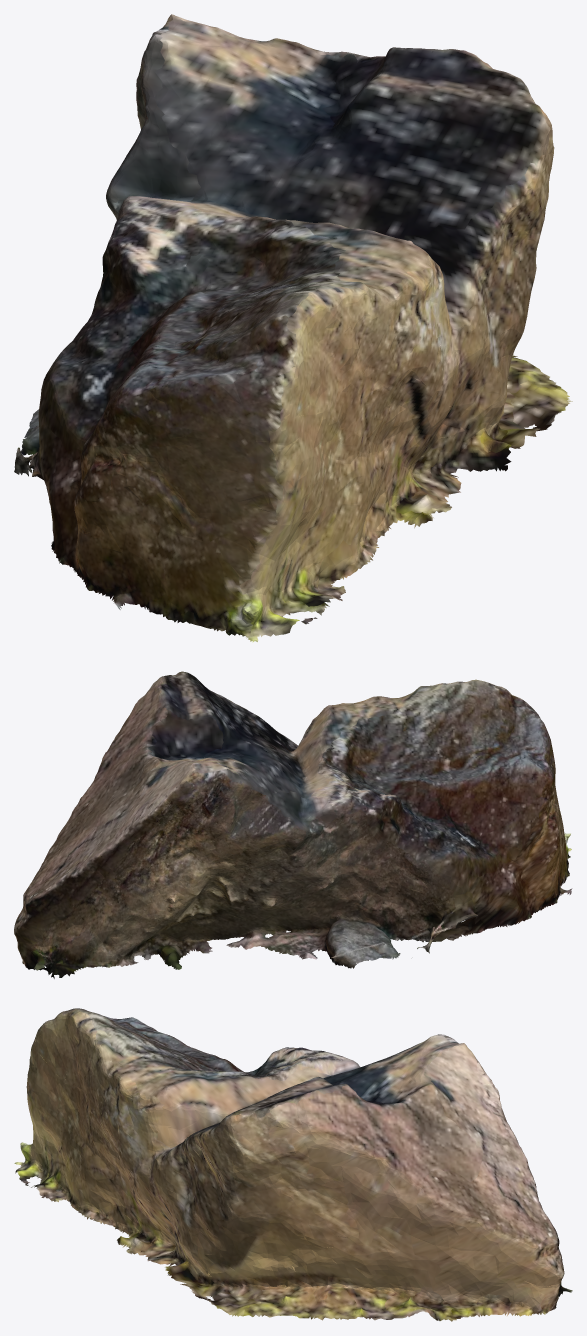
Rendered from keiseki_01.glb.
3 views of the same model, one above another, from view 1: azimuth 30°, elevation 25°; view 2: azimuth 150°, elevation 25°; view 3: azimuth 270°, elevation 25° (orthographic). The views are drawn at different scales.
Visible parts, largest first — view 1: mesh; view 2: mesh; view 3: mesh.
Boxes of the visible parts, bbox=[...] form: mesh: bbox=[14, 14, 572, 642]; mesh: bbox=[14, 671, 572, 978]; mesh: bbox=[14, 1008, 572, 1321].
Size of the model in its own units: 0.656 by 0.3529 by 0.8497.
1 material, 1 textured.
